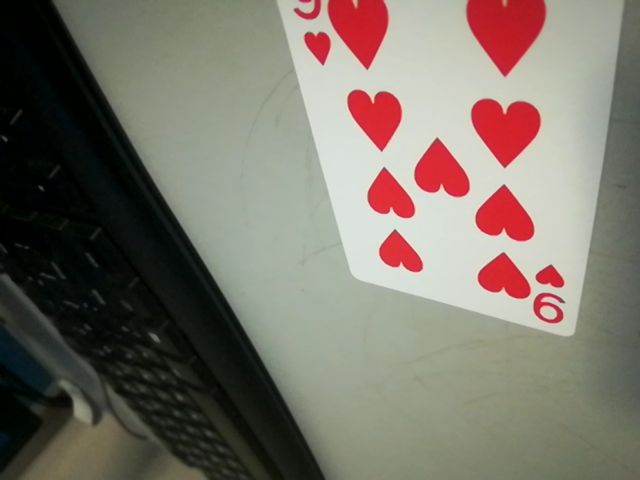hx 9: (524, 263, 577, 331)
